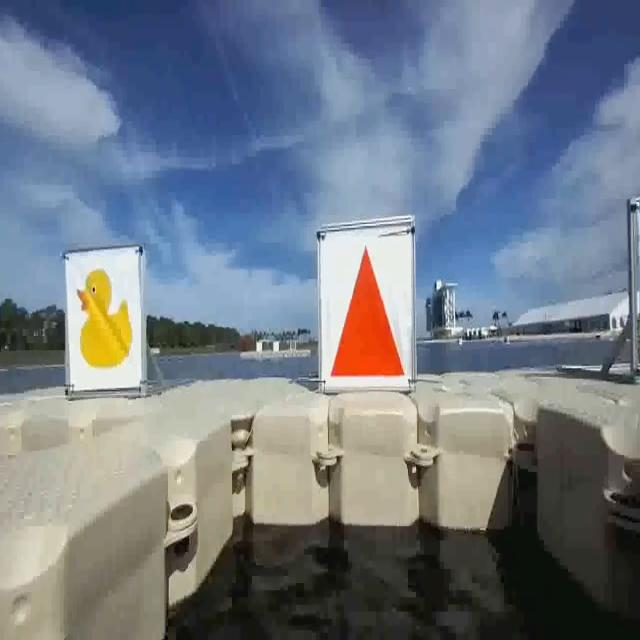red-dot: (317, 231, 412, 392)
yellow-duck: (76, 266, 132, 368)
